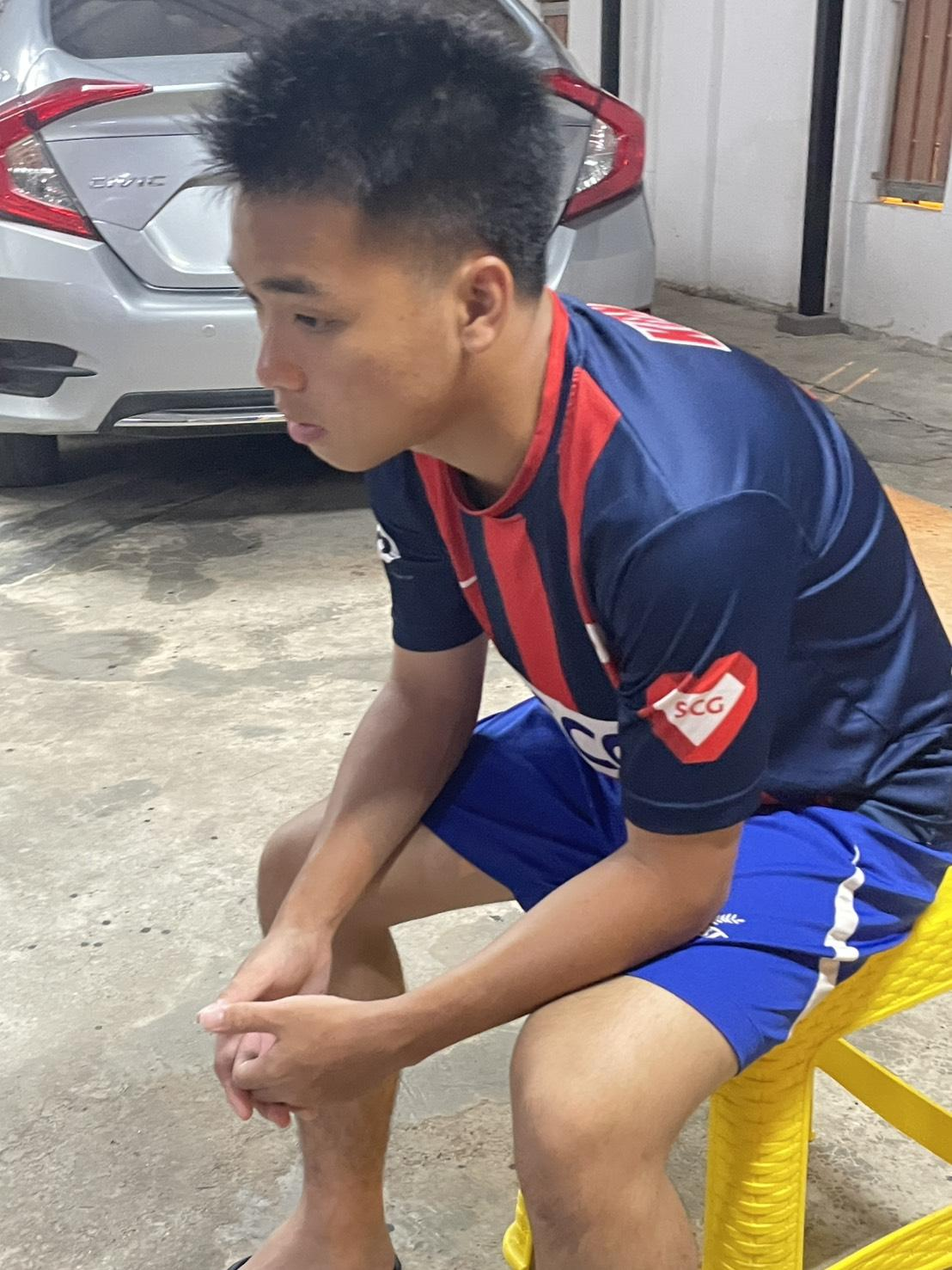BadPosture: (201, 0, 951, 1117), (202, 0, 951, 805)
